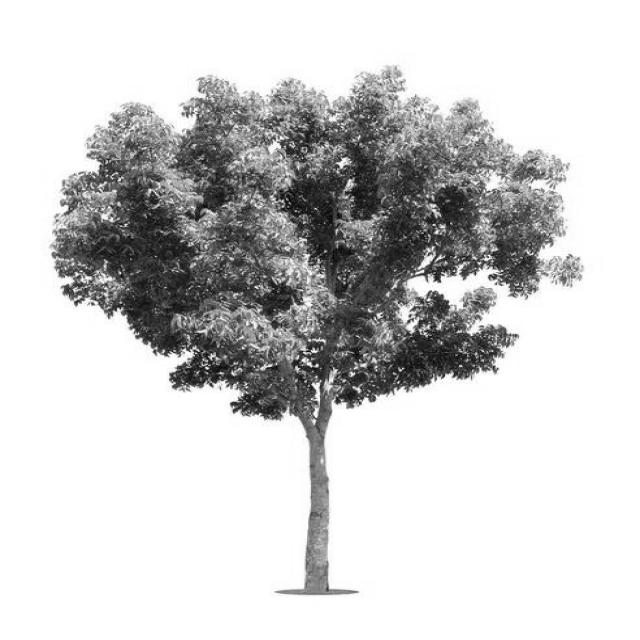Tree: (52, 67, 581, 592)
